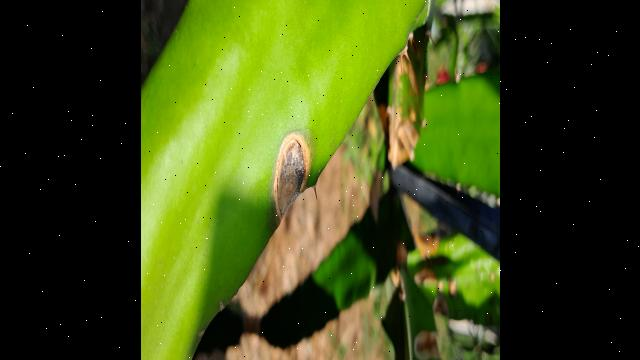stemcanker: (271, 127, 313, 233)
